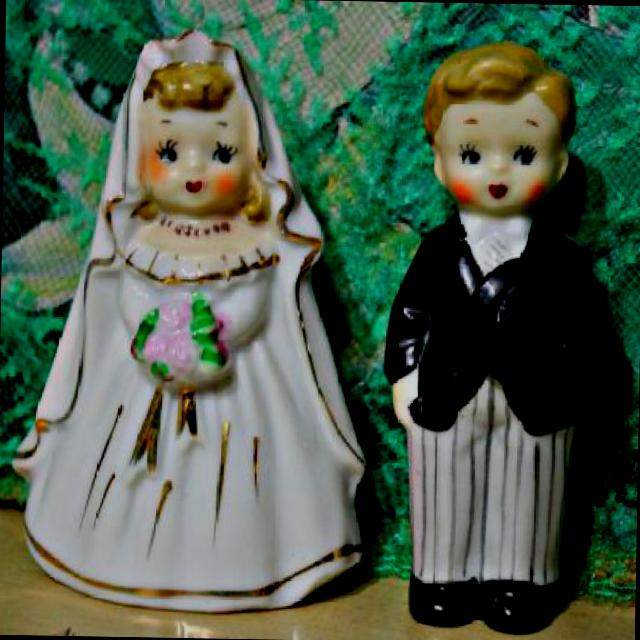Person: (9, 22, 376, 614), (381, 36, 619, 632)
